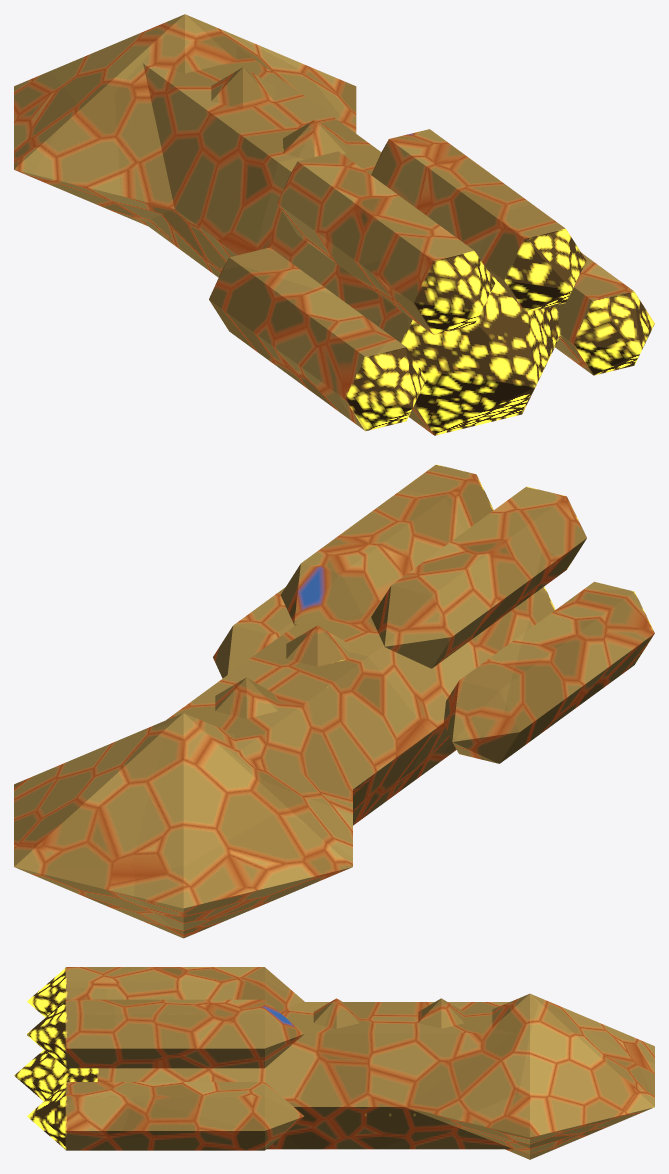
File: vraygon_battleship.glb
The picture shows the model from 3 angles, top to bottom: view 1: azimuth 30°, elevation 25°; view 2: azimuth 150°, elevation 25°; view 3: azimuth 270°, elevation 25°; orthographic projection. The views are drawn at different scales.
Visible parts, largest first — view 1: VraygonBattleship; view 2: VraygonBattleship; view 3: VraygonBattleship.
Part boxes in pixels (<box>): VraygonBattleship: <box>14,14,654,435</box>; VraygonBattleship: <box>14,464,654,938</box>; VraygonBattleship: <box>14,967,654,1159</box>.
Size of the model in its own units: 22.51 by 14.48 by 50.
1 material, 1 textured.
